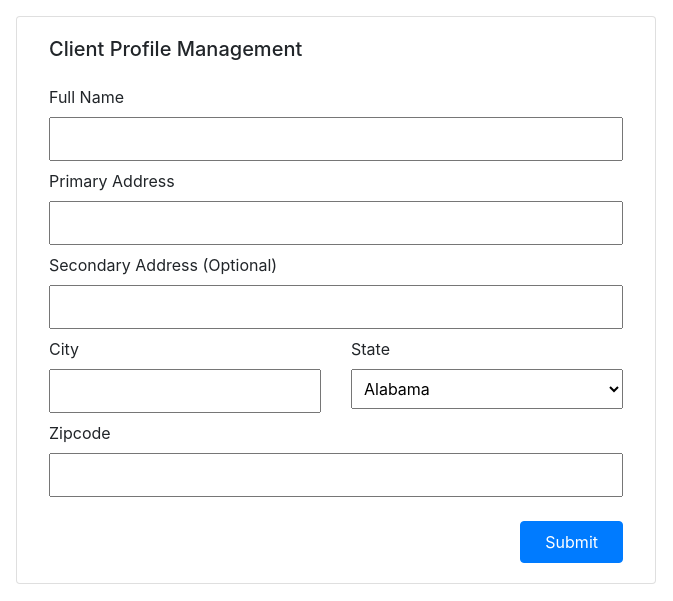
Profile component › Address 1 - exceed string input
The image size is (673, 601).
Step 1. Type "abcdefghijklmnopqrstuvwxyqabcdefghijklmnopqrstuvwxyqabcdefghijklmnopqrstuvwxyqabcdefghijklmnopqrstuvwxyq" into the field labelled "Primary Address" → (336, 223), box top-left (49, 201), bottom-right (623, 245)
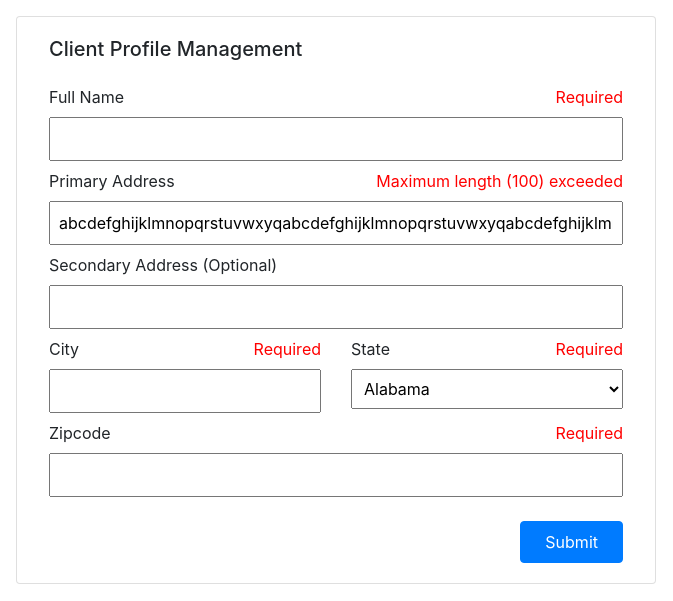
Check: the text "Maximum length (100) exceeded" is shown, box top-left (376, 169), bottom-right (623, 193)
